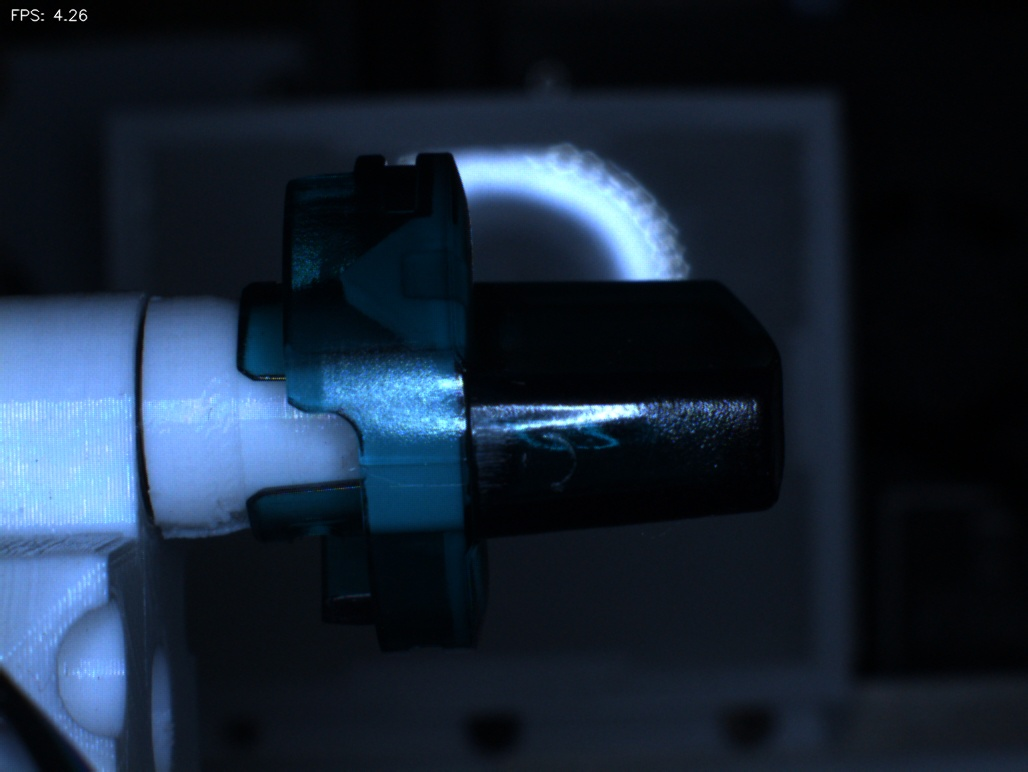DentOk: (317, 232, 391, 332)
